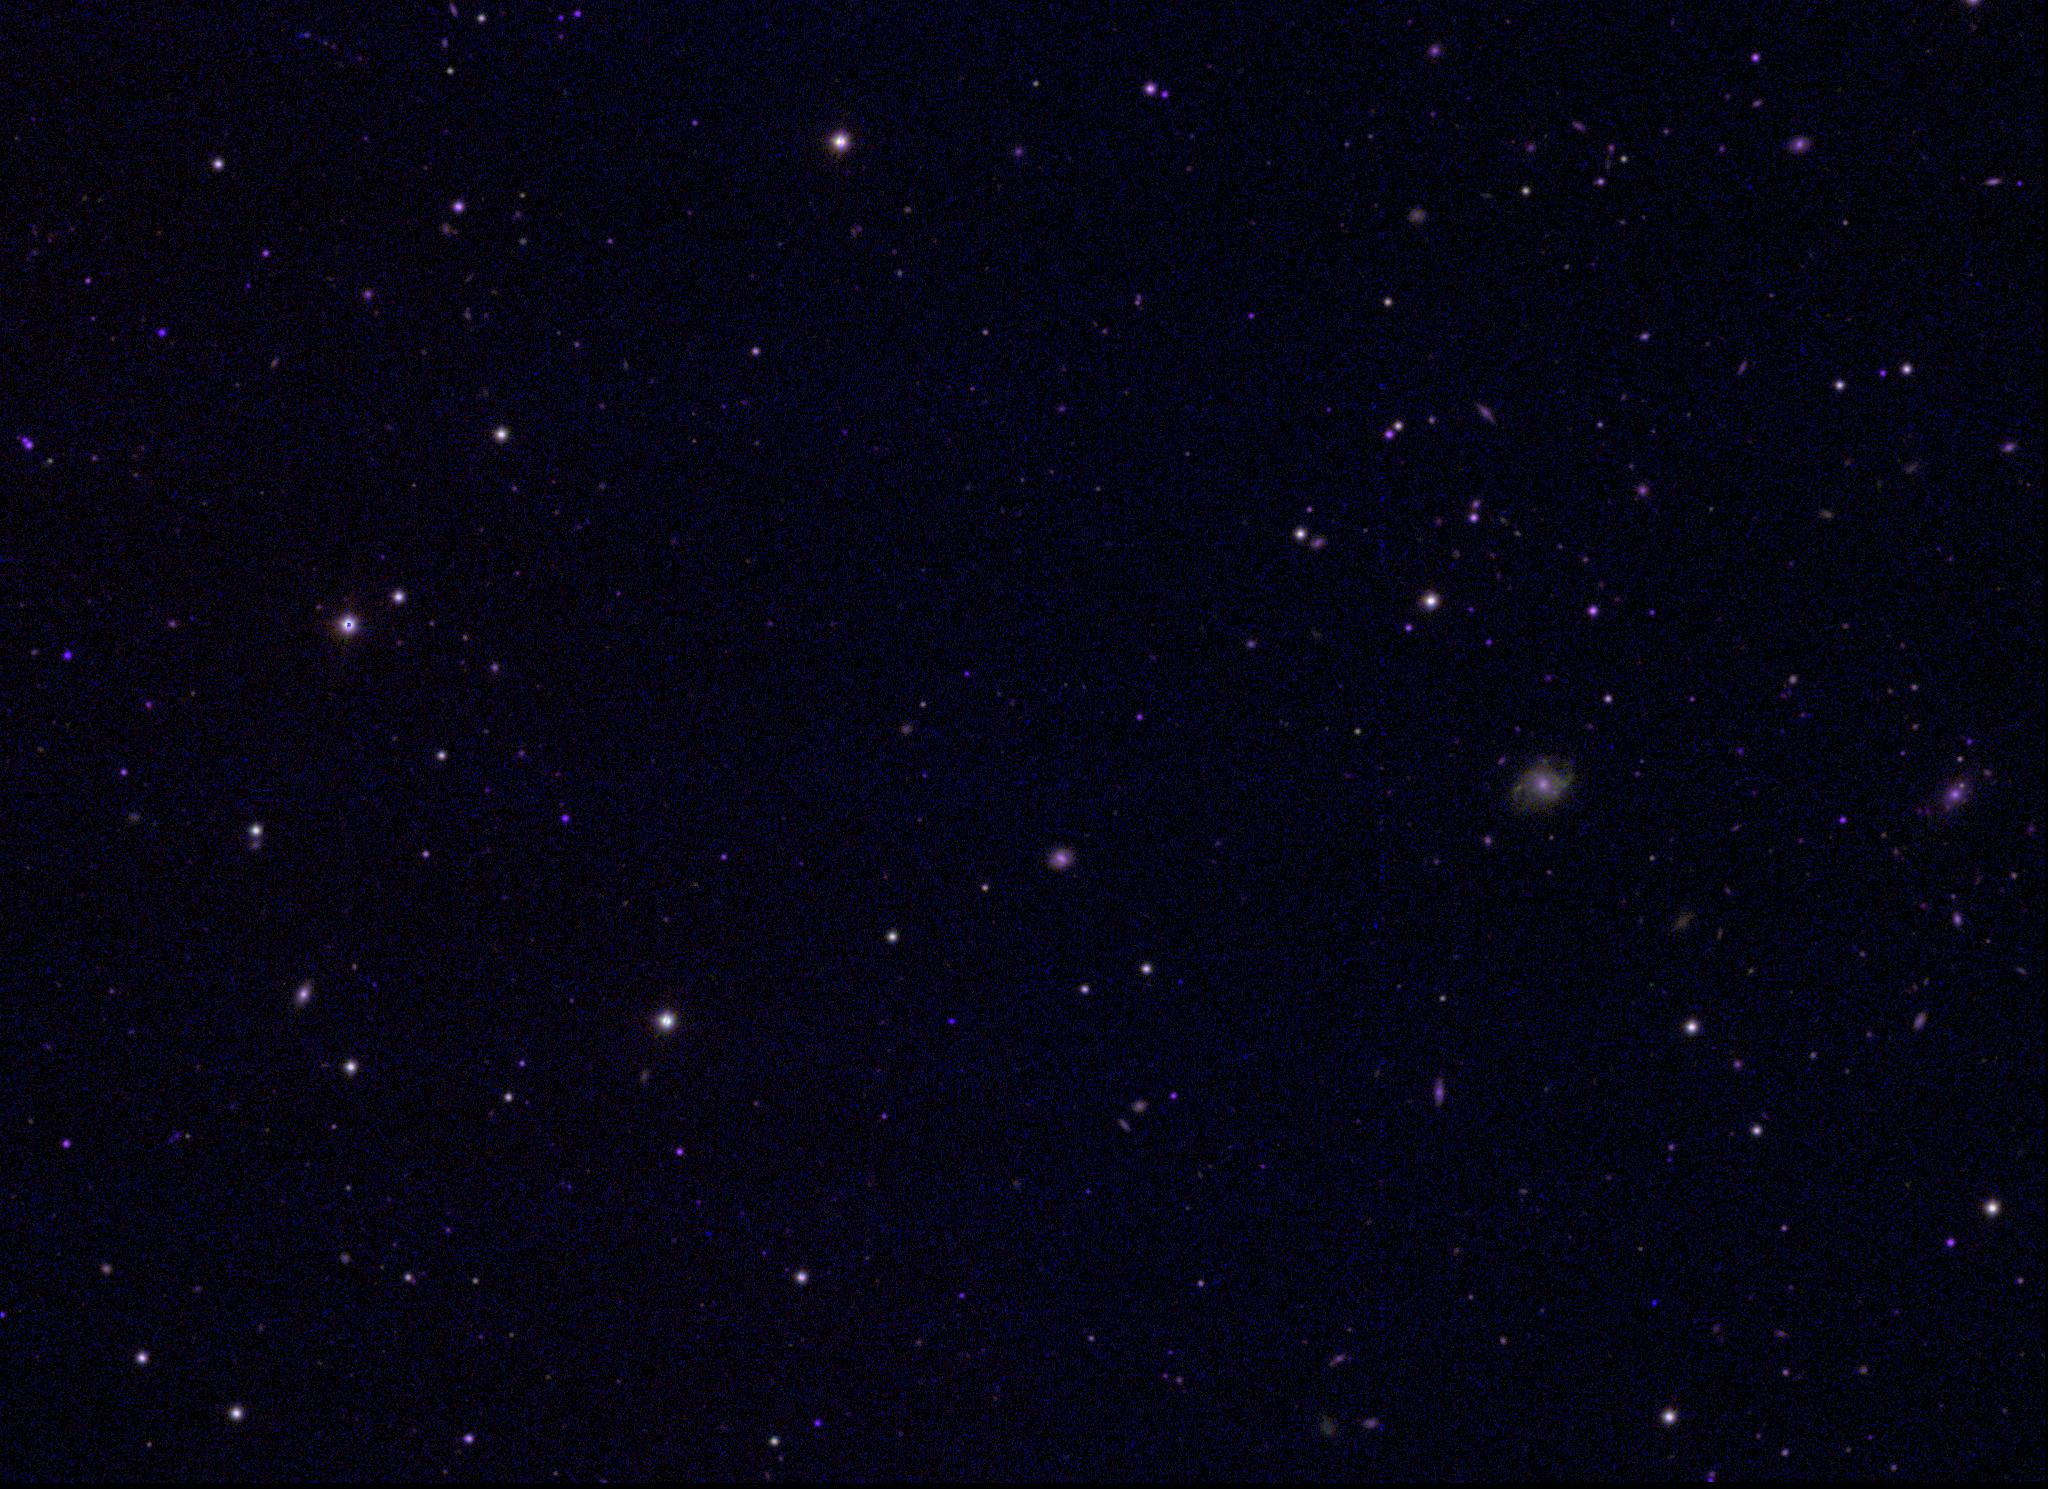L: (1647, 1293, 1662, 1308)
